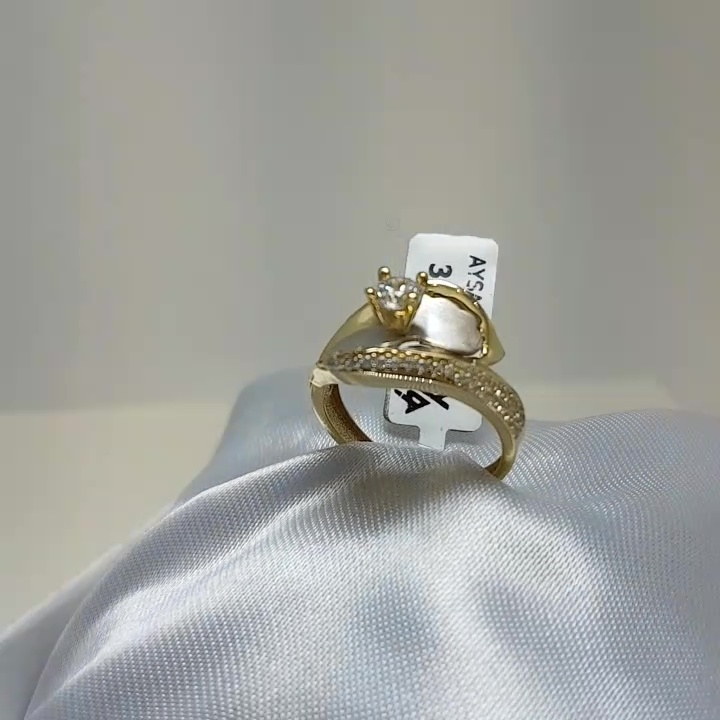Ring 6: (289, 251, 555, 474)
